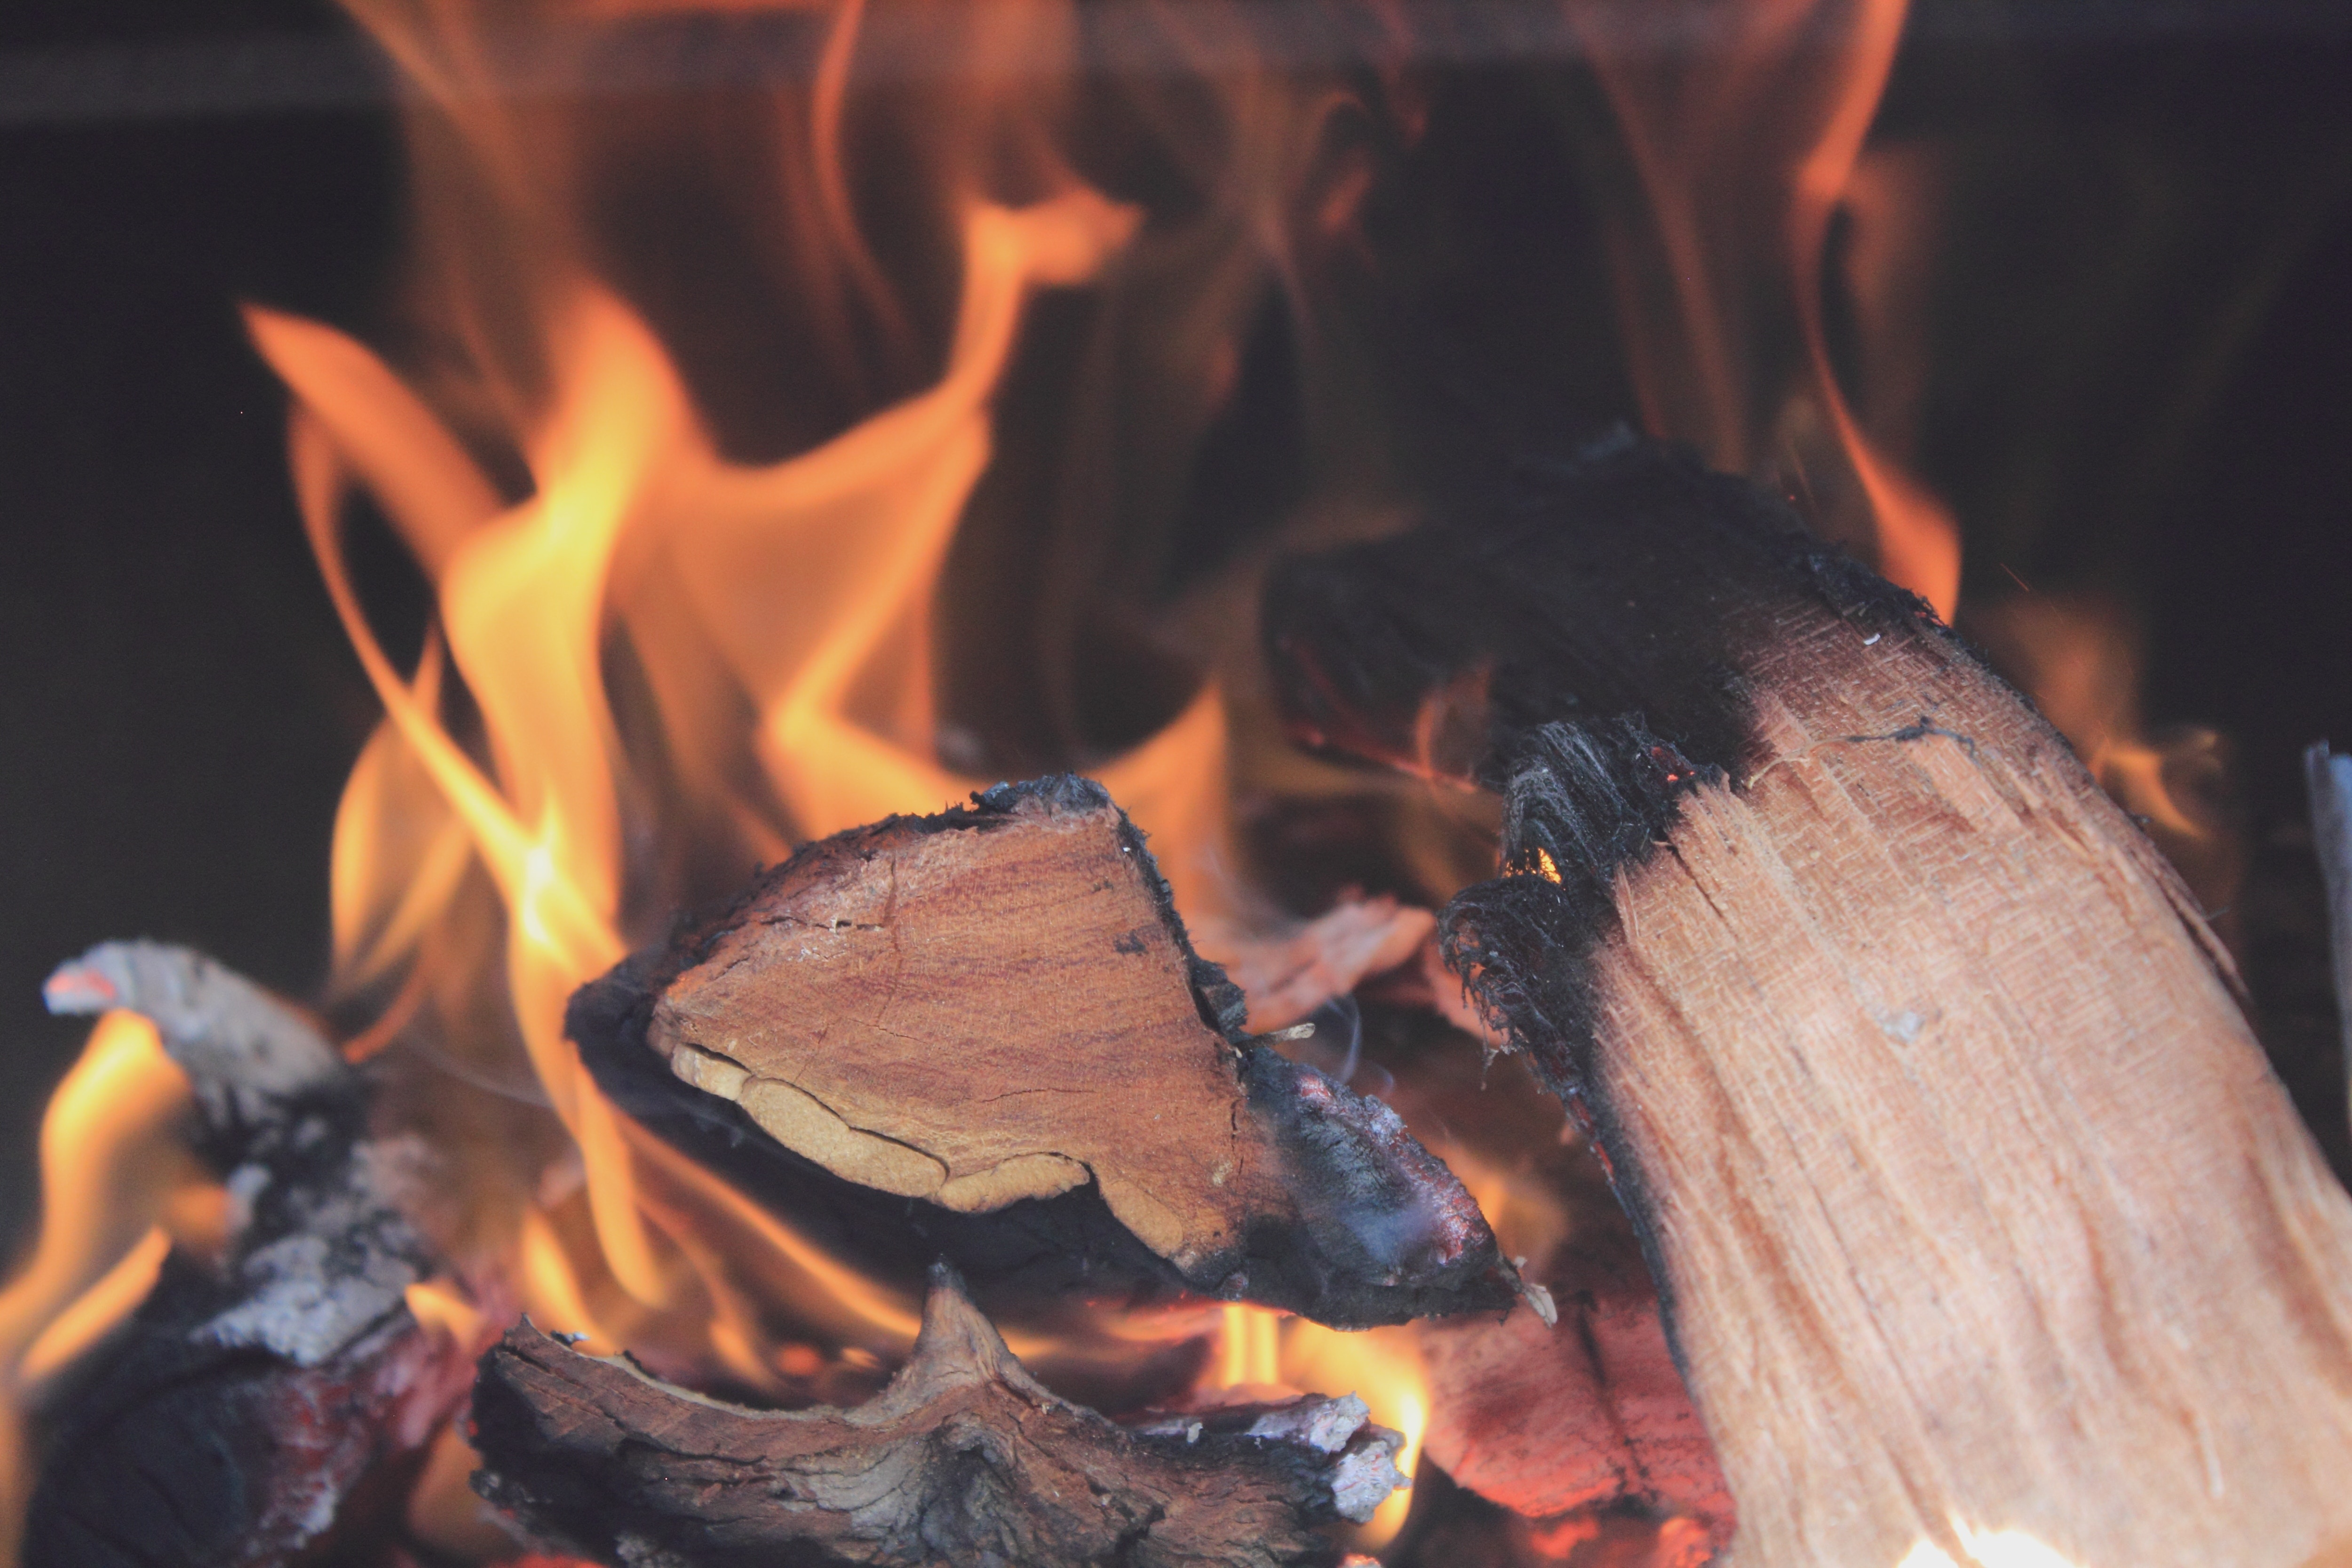fire: (173, 32, 1816, 1452)
